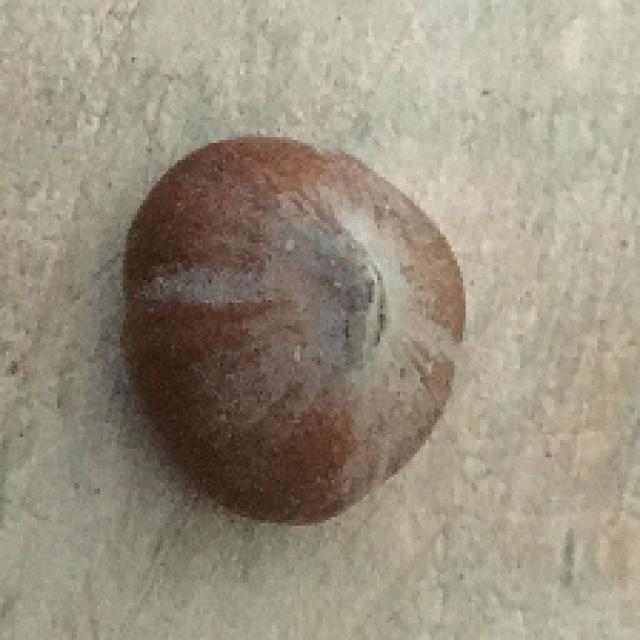qualityHazelnut: (124, 133, 465, 522)
